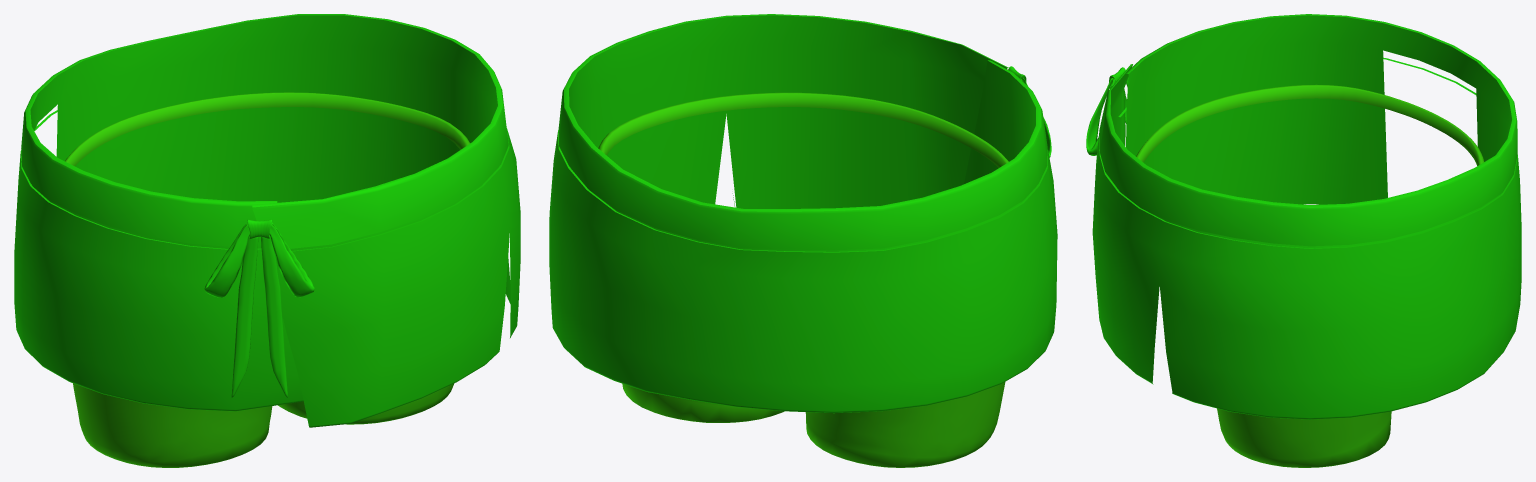
The model's file is herin_skirt.gltf.
3 renders of one model, left to right at view 1: azimuth 30°, elevation 25°; view 2: azimuth 150°, elevation 25°; view 3: azimuth 270°, elevation 25°, orthographic. The views are drawn at different scales.
Visible parts, largest first — view 1: herin_skirt, DANIEL_HB.1, PM3D_Sphere3D2; view 2: herin_skirt, DANIEL_HB.1; view 3: herin_skirt, DANIEL_HB.1, PM3D_Sphere3D2.
Part boxes in pixels (x1=…): herin_skirt: x1=14, y1=14, x2=520, y2=427; DANIEL_HB.1: x1=65, y1=92, x2=470, y2=467; PM3D_Sphere3D2: x1=204, y1=219, x2=314, y2=397; herin_skirt: x1=549, y1=14, x2=1057, y2=413; DANIEL_HB.1: x1=598, y1=92, x2=1008, y2=467; herin_skirt: x1=1092, y1=14, x2=1521, y2=419; DANIEL_HB.1: x1=1136, y1=84, x2=1483, y2=467; PM3D_Sphere3D2: x1=1086, y1=67, x2=1128, y2=155.
Size of the model in its own units: 0.035 by 0.0222 by 0.0312.
Materials: 2 (1 with a texture image).
